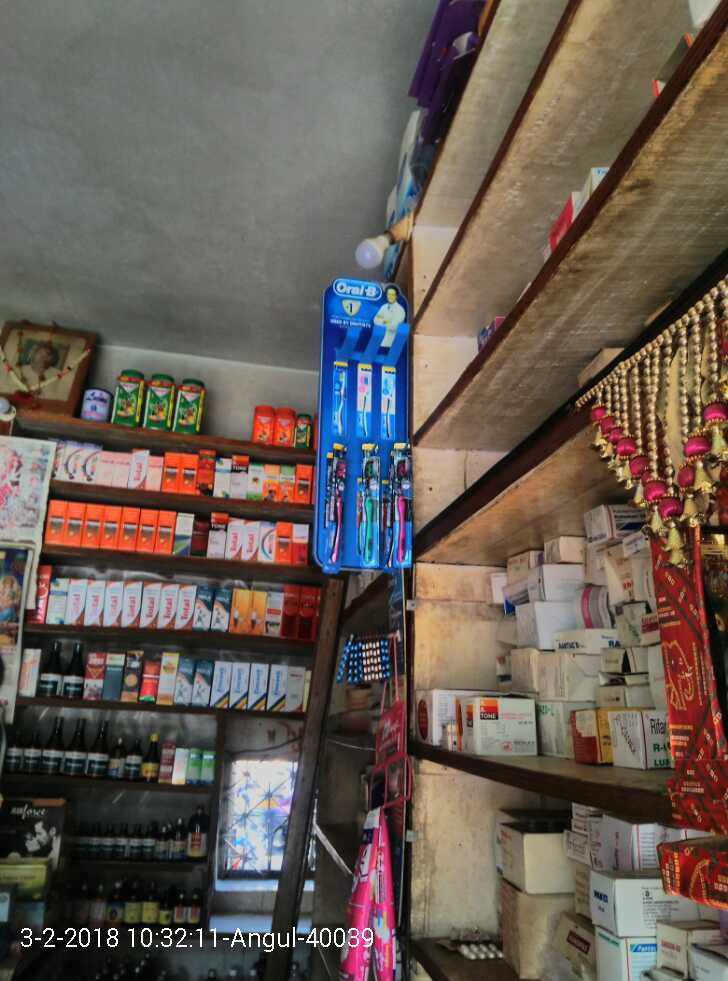oralb: (390, 441, 416, 569), (359, 446, 381, 571), (330, 447, 343, 573)
